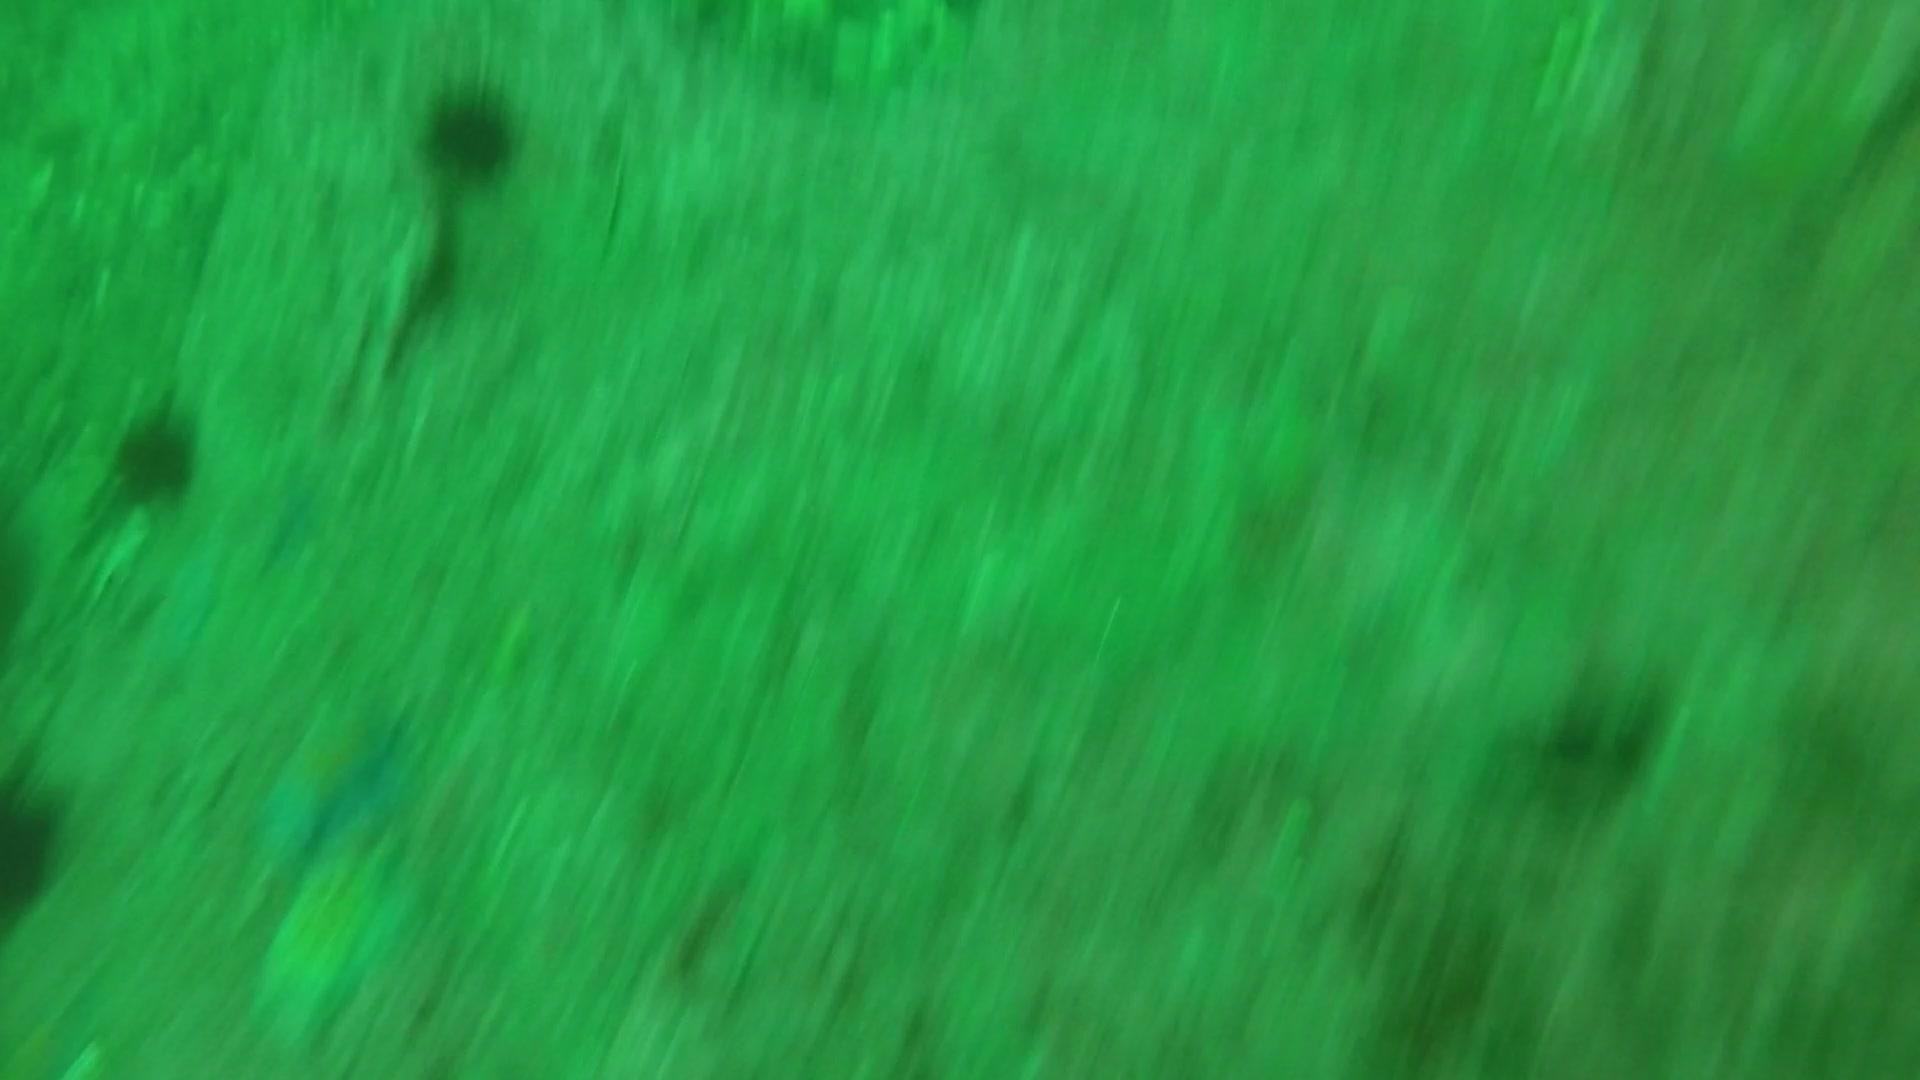echinus: (0, 765, 76, 935), (414, 75, 527, 186), (103, 400, 208, 512)
starfish: (241, 837, 429, 1051), (244, 694, 421, 866)
